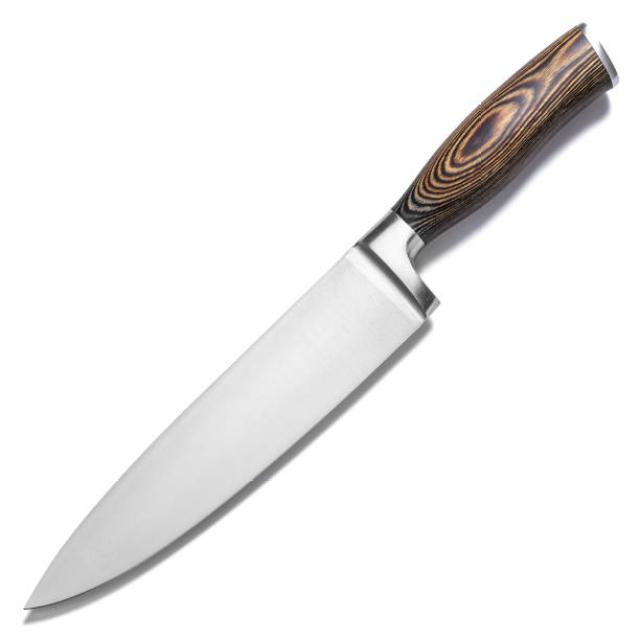knife: (15, 15, 615, 625)
